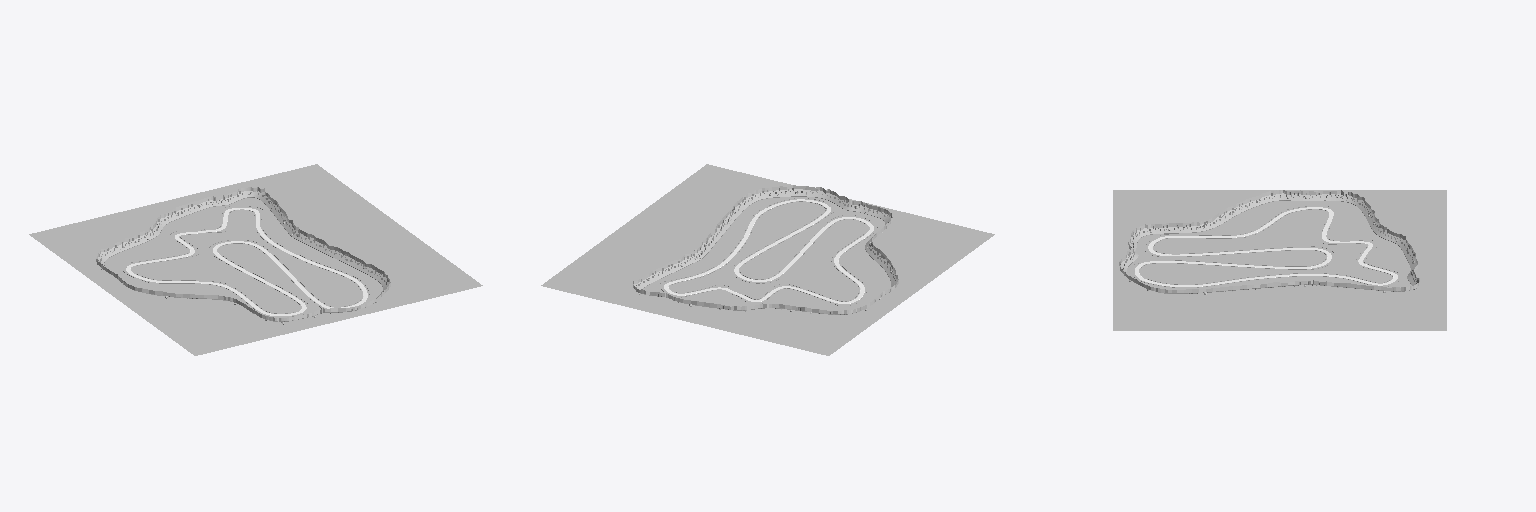
The picture shows the model from 3 angles: view 1: azimuth 30°, elevation 25°; view 2: azimuth 150°, elevation 25°; view 3: azimuth 270°, elevation 25°; orthographic projection.
Parts seen in each view (by area): view 1: Plane, RaceTrack_Wall_00, RaceTrack_Main_00; view 2: Plane, RaceTrack_Wall_00, RaceTrack_Main_00; view 3: Plane, RaceTrack_Wall_00, RaceTrack_Main_00.
Boxes of the visible parts, x1,y1,x2,y2 form: Plane: [29, 164, 482, 355]; RaceTrack_Wall_00: [96, 187, 390, 321]; RaceTrack_Main_00: [126, 208, 367, 315]; Plane: [541, 164, 994, 355]; RaceTrack_Wall_00: [633, 185, 898, 314]; RaceTrack_Main_00: [664, 199, 873, 303]; Plane: [1113, 190, 1446, 330]; RaceTrack_Wall_00: [1119, 190, 1419, 293]; RaceTrack_Main_00: [1134, 207, 1397, 286].
Bounding box in the file's own units: 1200 × 34.22 × 1200.